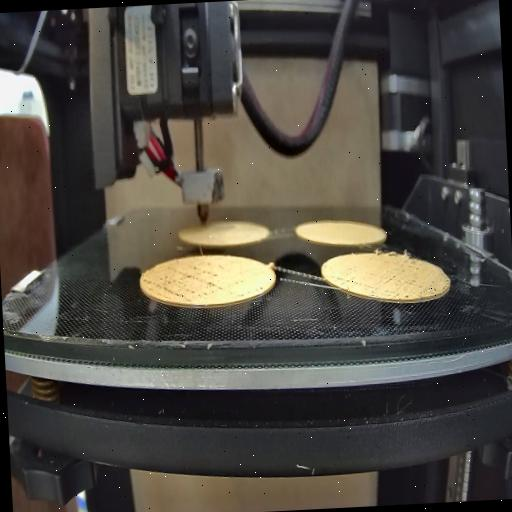under_extrusion: (145, 262, 224, 302), (384, 264, 437, 298), (333, 272, 368, 292), (240, 281, 268, 301)
